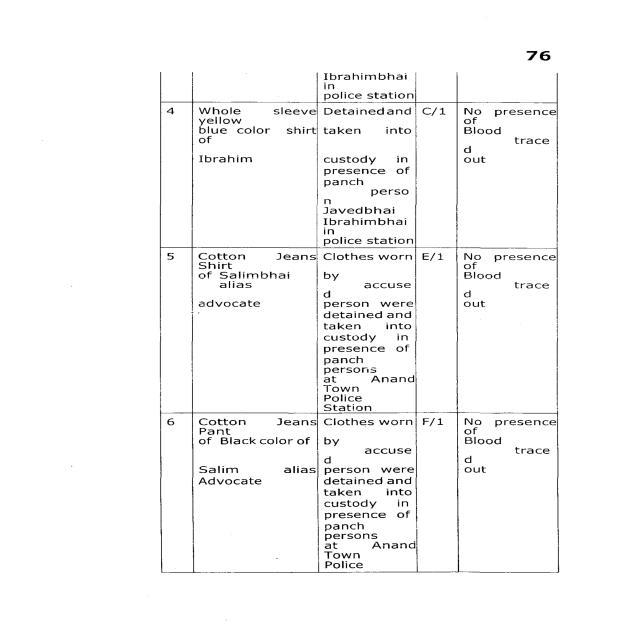page-number: (434, 2, 639, 64)
